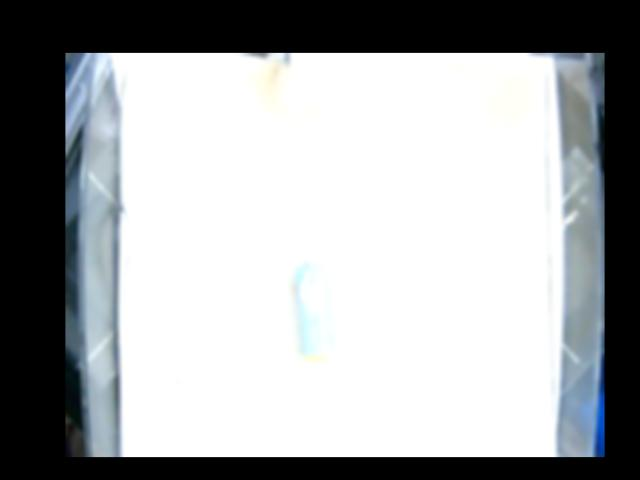Battery: (295, 261, 331, 361)
